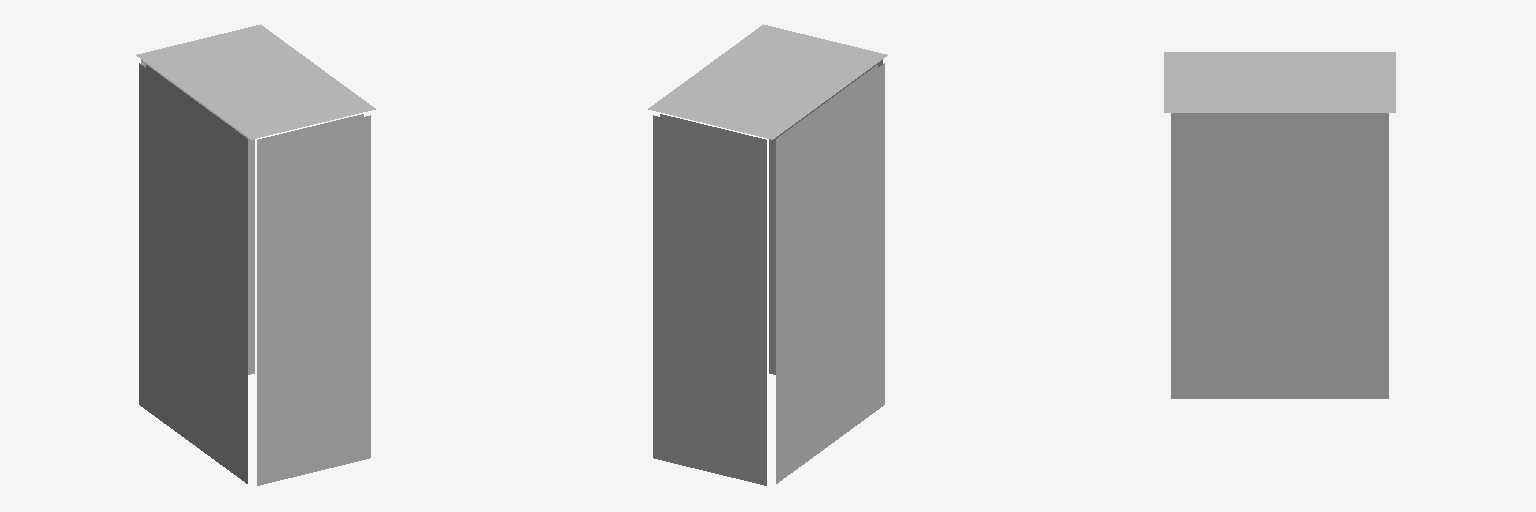
File: leftglass2.obj
3 views of the same model, side by side, from view 1: azimuth 30°, elevation 25°; view 2: azimuth 150°, elevation 25°; view 3: azimuth 270°, elevation 25° (orthographic).
Parts seen in each view (by area): view 1: 立方体.039; view 2: 立方体.039; view 3: 立方体.039.
Boxes of the visible parts, x1=… form: 立方体.039: x1=136, y1=24, x2=375, y2=485; 立方体.039: x1=648, y1=24, x2=887, y2=485; 立方体.039: x1=1164, y1=52, x2=1395, y2=398.
Bounding box in the file's own units: 0.3369 × 0.8932 × 0.5398.